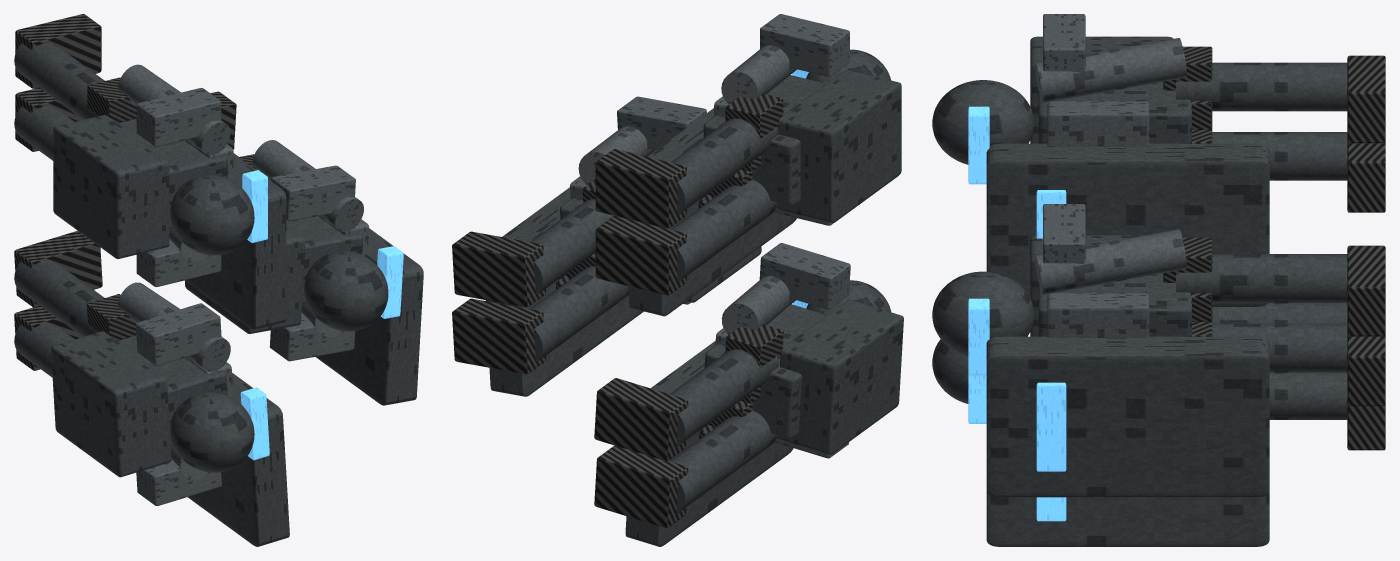
The model's file is s-u02-specter-assault-infantry-lod0.glb.
The picture shows the model from 3 angles, left to right: view 1: azimuth 30°, elevation 25°; view 2: azimuth 150°, elevation 25°; view 3: azimuth 270°, elevation 25°; orthographic projection. The views are drawn at different scales.
Parts seen in each view (by area): view 1: soldier_1_backpack, soldier_2_backpack, soldier_0_shield, soldier_1_shield, soldier_2_shield, soldier_2_helmet, soldier_1_helmet, soldier_0_helmet, soldier_1_leg_1, soldier_2_shoulder_1, soldier_2_leg_1, soldier_1_shoulder_1 (+23 smaller); view 2: soldier_1_backpack, soldier_2_backpack, soldier_2_boot_1, soldier_1_boot_-1, soldier_1_boot_1, soldier_2_boot_-1, soldier_0_boot_1, soldier_0_boot_-1, soldier_0_shield, soldier_1_shield, soldier_1_leg_-1, soldier_2_leg_-1 (+18 smaller); view 3: soldier_0_shield, soldier_1_shield, soldier_2_shield, soldier_1_leg_1, soldier_0_leg_1, soldier_0_arm_1, soldier_1_arm_1, soldier_0_helmet, soldier_1_helmet, soldier_0_leg_-1, soldier_1_chest, soldier_0_chest (+25 smaller).
Part boxes in pixels (bbox=[...]): soldier_1_backpack: bbox=[53, 115, 169, 258]; soldier_2_backpack: bbox=[51, 331, 171, 477]; soldier_0_shield: bbox=[315, 228, 423, 405]; soldier_1_shield: bbox=[184, 154, 286, 329]; soldier_2_shield: bbox=[187, 373, 289, 546]; soldier_2_helmet: bbox=[170, 392, 254, 472]; soldier_1_helmet: bbox=[170, 175, 254, 255]; soldier_0_helmet: bbox=[304, 251, 388, 331]; soldier_1_leg_1: bbox=[14, 43, 136, 123]; soldier_2_shoulder_1: bbox=[136, 303, 221, 365]; soldier_2_leg_1: bbox=[14, 260, 136, 341]; soldier_1_shoulder_1: bbox=[136, 88, 221, 146]; soldier_1_backpack: bbox=[778, 70, 901, 222]; soldier_2_backpack: bbox=[777, 299, 903, 454]; soldier_2_boot_1: bbox=[594, 378, 688, 461]; soldier_1_boot_-1: bbox=[595, 216, 686, 295]; soldier_1_boot_1: bbox=[595, 149, 686, 228]; soldier_2_boot_-1: bbox=[594, 445, 688, 528]; soldier_0_boot_1: bbox=[452, 231, 545, 307]; soldier_0_boot_-1: bbox=[452, 298, 545, 374]; soldier_0_shield: bbox=[485, 187, 643, 396]; soldier_1_shield: bbox=[629, 108, 796, 316]; soldier_1_leg_-1: bbox=[671, 179, 777, 282]; soldier_2_leg_-1: bbox=[669, 410, 777, 513]; soldier_0_shield: bbox=[986, 336, 1269, 497]; soldier_1_shield: bbox=[986, 143, 1269, 306]; soldier_2_shield: bbox=[986, 491, 1269, 546]; soldier_1_leg_1: bbox=[1176, 62, 1347, 111]; soldier_0_leg_1: bbox=[1176, 254, 1347, 302]; soldier_0_arm_1: bbox=[1035, 229, 1186, 295]; soldier_1_arm_1: bbox=[1035, 38, 1186, 103]; soldier_0_helmet: bbox=[932, 271, 1034, 356]; soldier_1_helmet: bbox=[932, 80, 1034, 164]; soldier_0_leg_-1: bbox=[1212, 323, 1347, 372]; soldier_1_chest: bbox=[1047, 101, 1149, 146]; soldier_0_chest: bbox=[1047, 293, 1149, 337].
Size of what is drawn, in the model's own units: 1.76 by 2.47 by 2.13.
4 materials, 4 textured.
